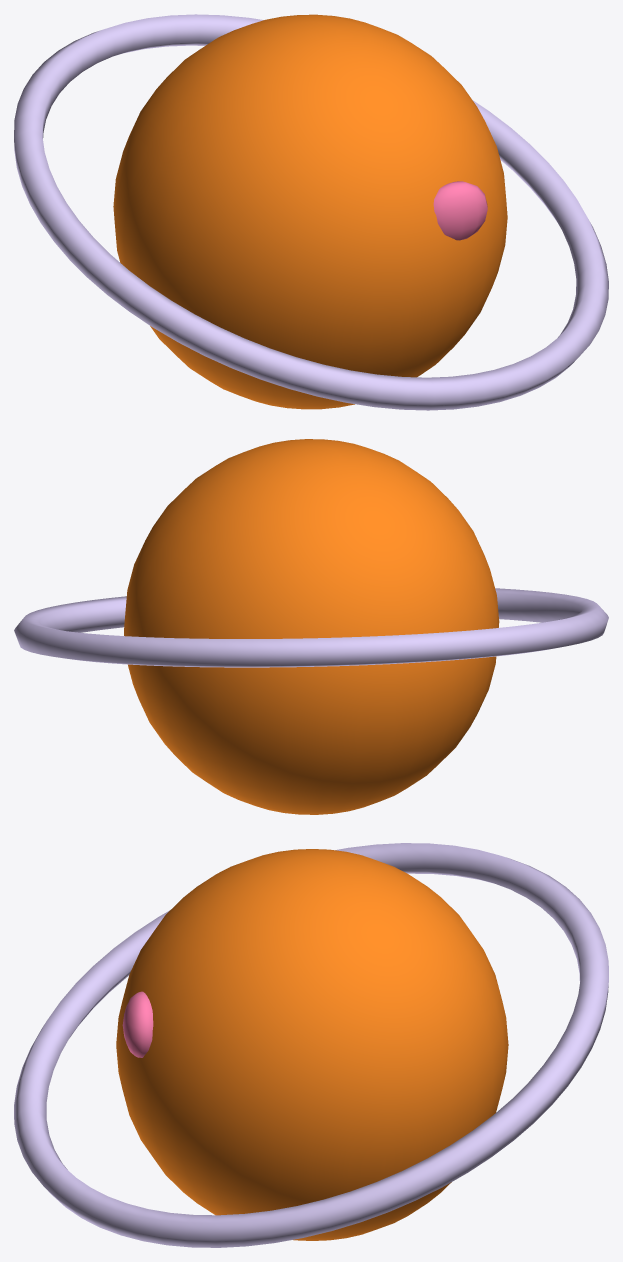
File: planet.glb
3 views of the same model, one above another, from view 1: azimuth 30°, elevation 25°; view 2: azimuth 150°, elevation 25°; view 3: azimuth 270°, elevation 25° (orthographic). The views are drawn at different scales.
Parts seen in each view (by area): view 1: Body; view 2: Body; view 3: Body.
Part boxes in pixels (box(x1,y1,x2,y2)): Body: box(14, 14, 608, 410); Body: box(14, 439, 608, 814); Body: box(14, 843, 608, 1247).
Size of the model in its own units: 9.32 by 6 by 9.1.
